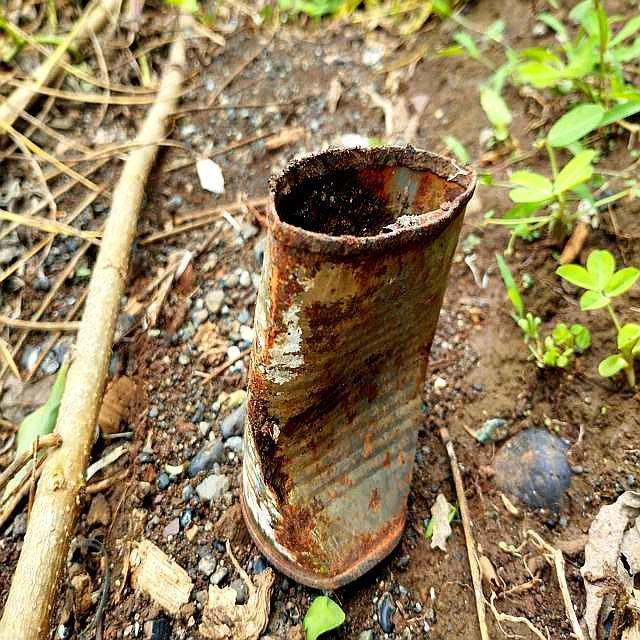Non-biodegradable: (237, 142, 479, 592)
